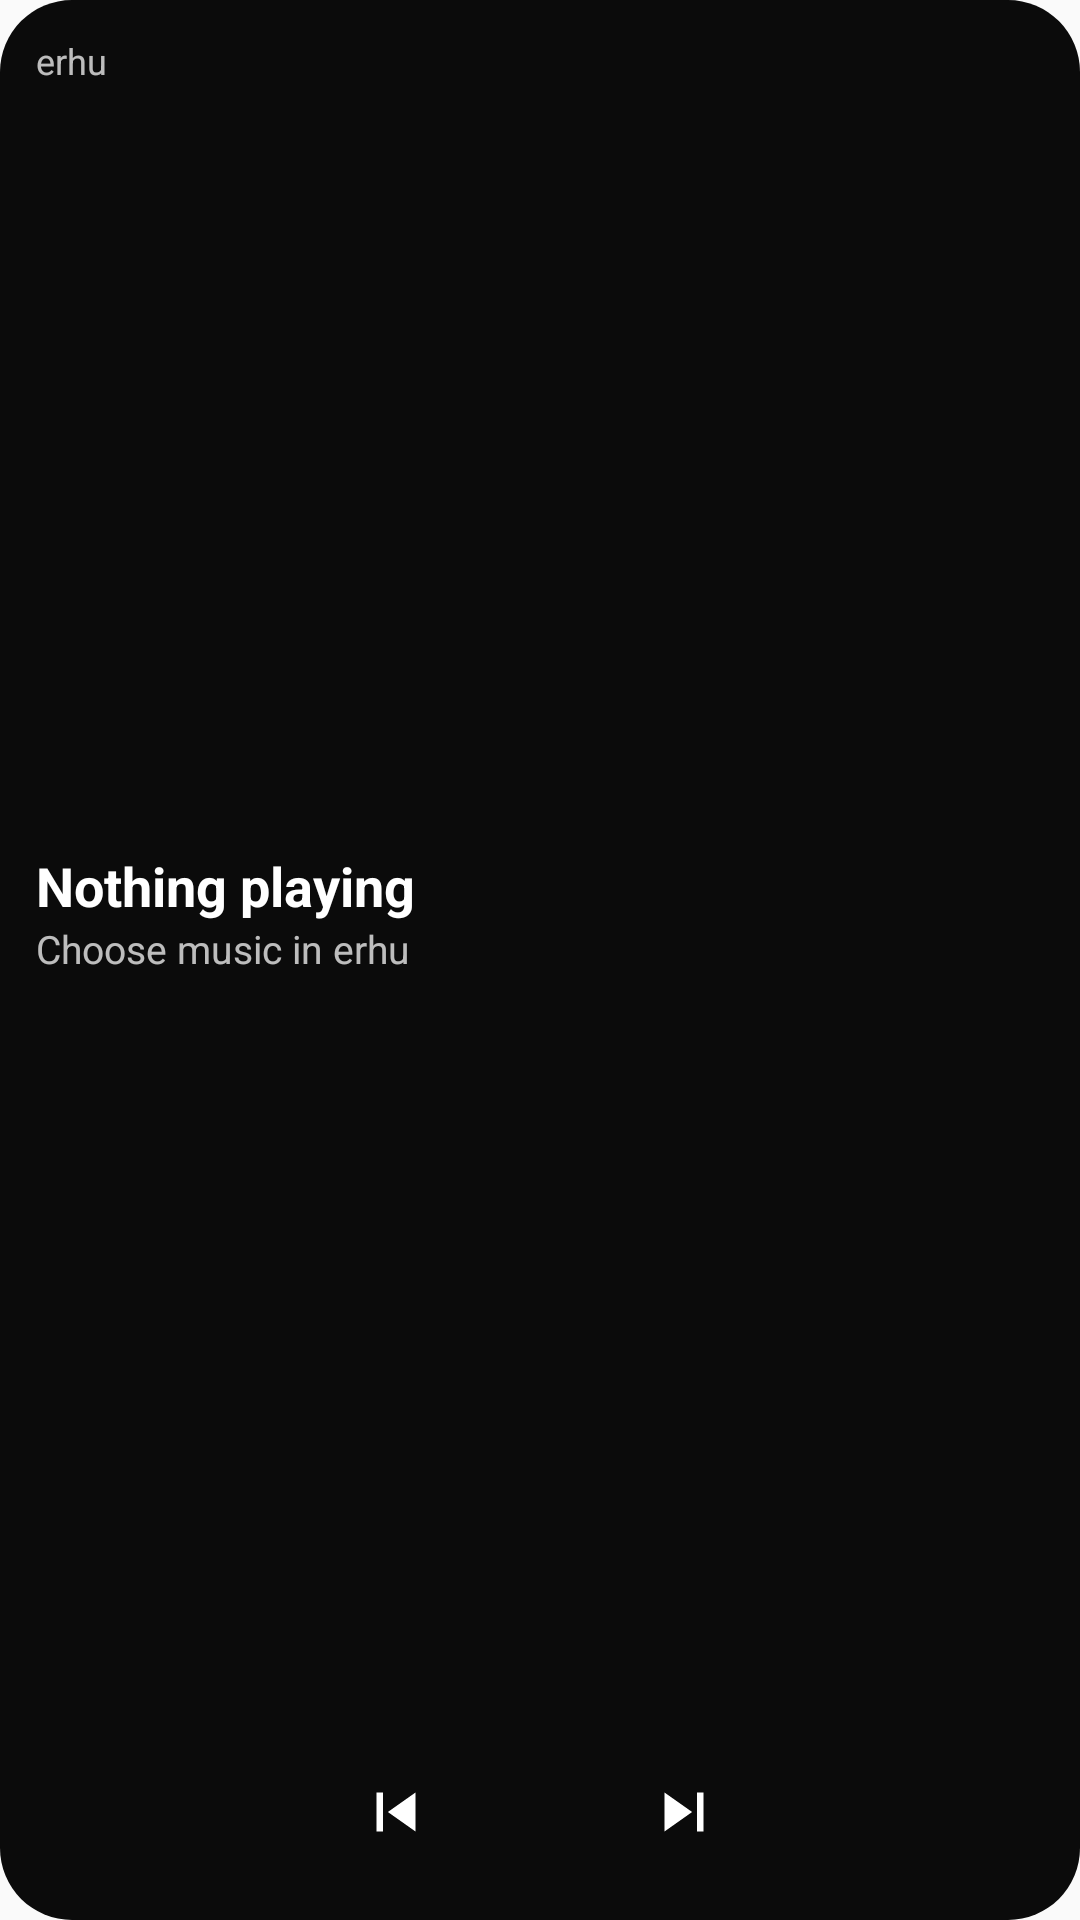

Icons on this 1080 × 1920 Android screen, each with its box as (x1, y1, x2, y2):
Next: (664, 1792, 704, 1832)
Previous: (376, 1792, 416, 1832)
